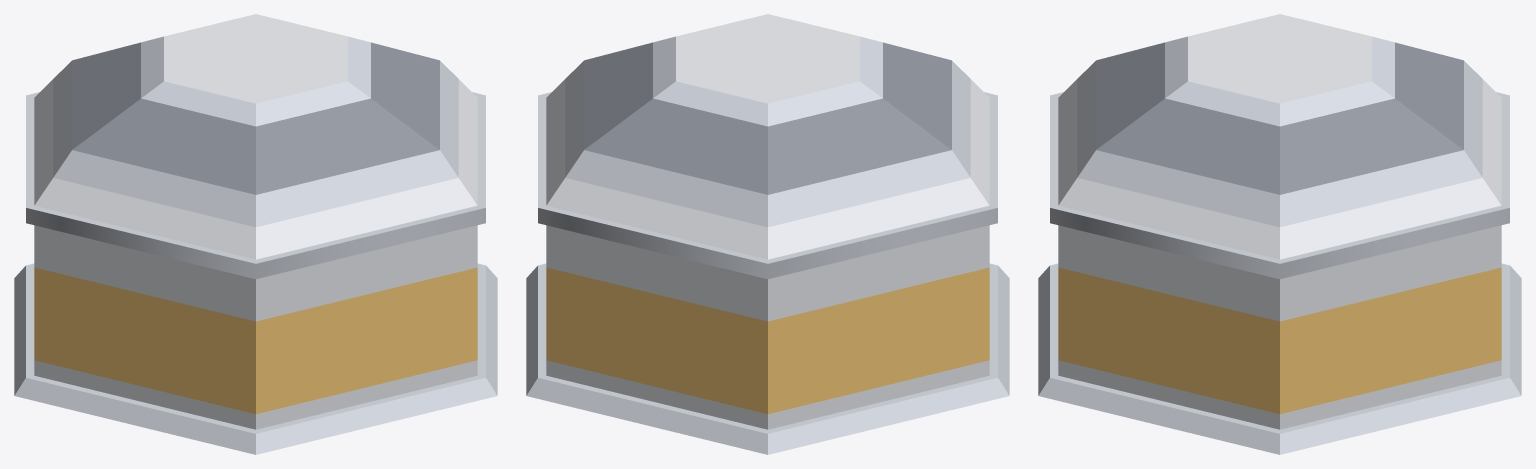
File: hangar_roundB.glb
The picture shows the model from 3 angles, left to right: view 1: azimuth 30°, elevation 25°; view 2: azimuth 150°, elevation 25°; view 3: azimuth 270°, elevation 25°; orthographic projection.
Visible parts, largest first — view 1: hangar_roundB; view 2: hangar_roundB; view 3: hangar_roundB.
Boxes of the visible parts, x1,y1,x2,y2 form: hangar_roundB: [14, 14, 497, 454]; hangar_roundB: [526, 14, 1009, 454]; hangar_roundB: [1038, 14, 1521, 454].
Size of the model in its own units: 3.27 by 1.8 by 2.83.
